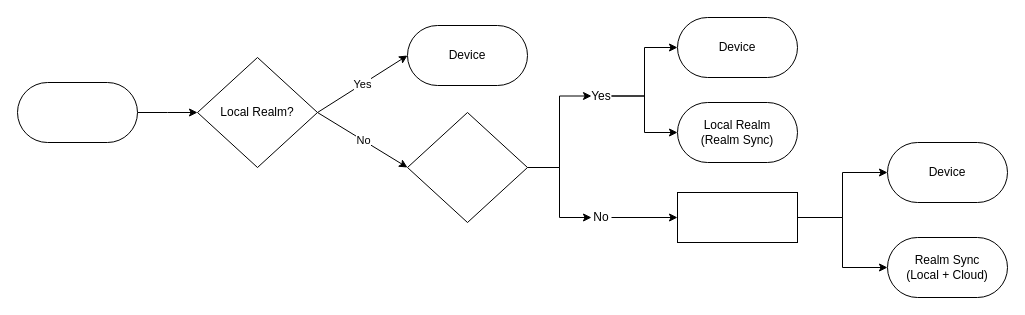
This 1025x315 diagram has some shape labels left out. Each missing label, with the centre of its shape:
"Cloud Realm?" belongs at pixel 467 167.
"Football - API Request" belongs at pixel 737 217.
"Load Data (Date = Today)" belongs at pixel 77 112.
